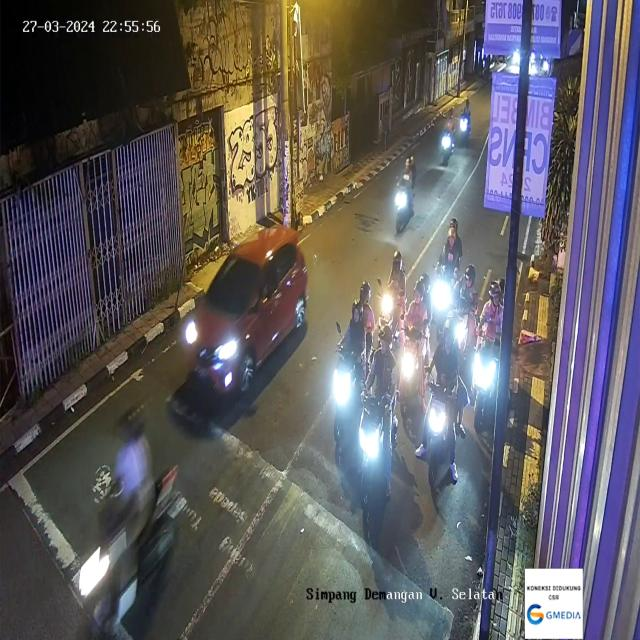car: (186, 215, 308, 398)
motorcycle: (80, 398, 178, 640), (422, 312, 466, 501), (361, 319, 392, 526), (330, 290, 370, 442), (396, 155, 416, 228), (440, 112, 454, 172), (461, 97, 475, 147)
